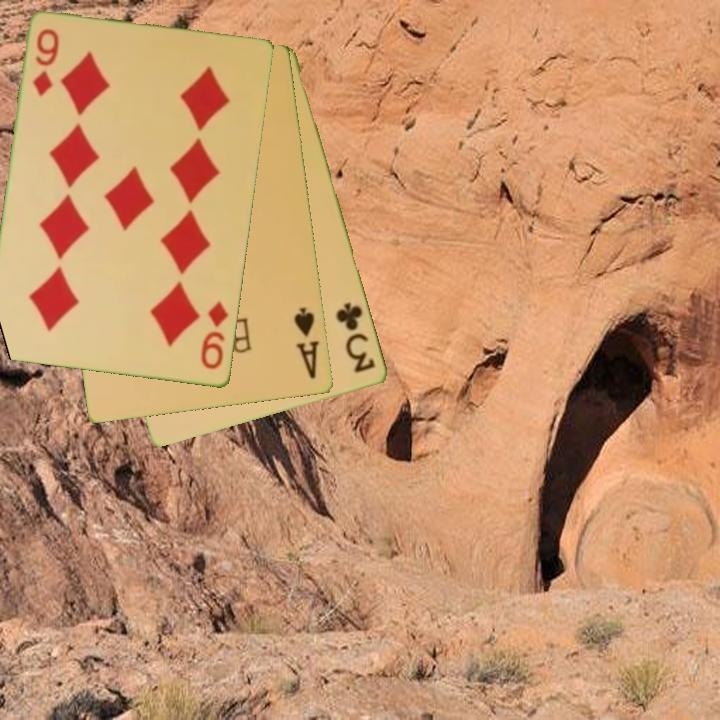3c: (332, 298, 379, 376)
9d: (197, 298, 232, 373), (29, 25, 63, 100)
As: (290, 304, 322, 382)
